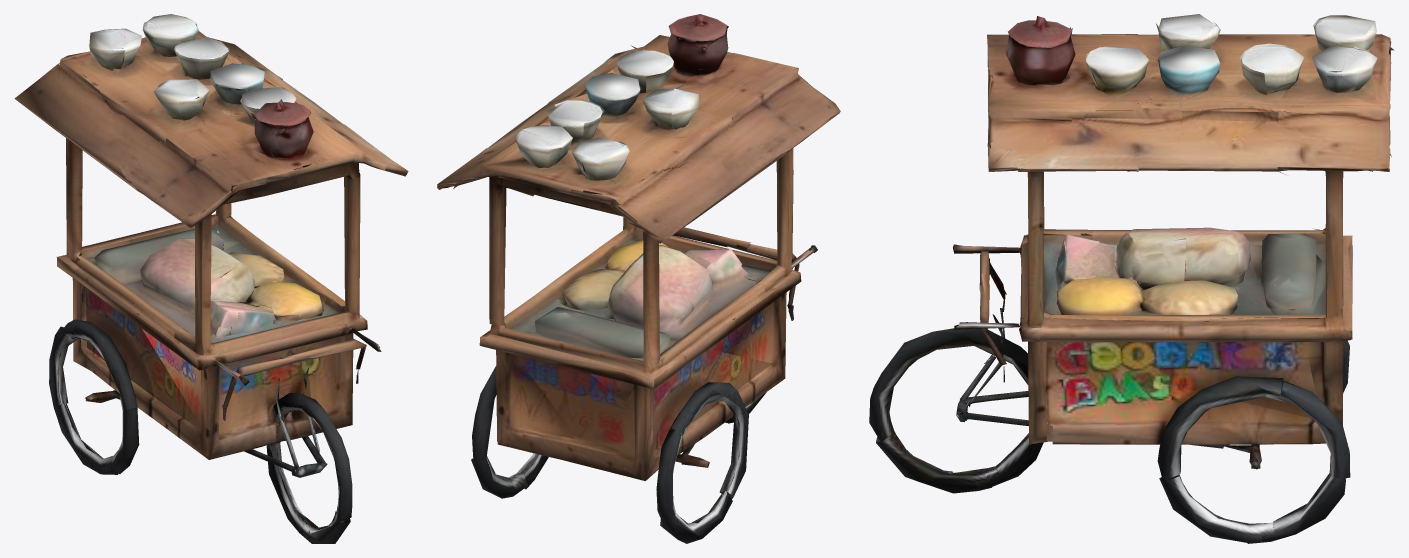
Rendered from gerobak.glb.
3 views of the same model, side by side, from view 1: azimuth 30°, elevation 25°; view 2: azimuth 150°, elevation 25°; view 3: azimuth 270°, elevation 25° (orthographic). The views are drawn at different scales.
Parts seen in each view (by area): view 1: model; view 2: model; view 3: model.
Boxes of the visible parts, x1,y1,x2,y2 form: model: [14, 14, 408, 543]; model: [437, 14, 840, 543]; model: [869, 14, 1394, 543].
Bounding box in the file's own units: 0.5609 × 1 × 0.9927.
1 material, 1 textured.
